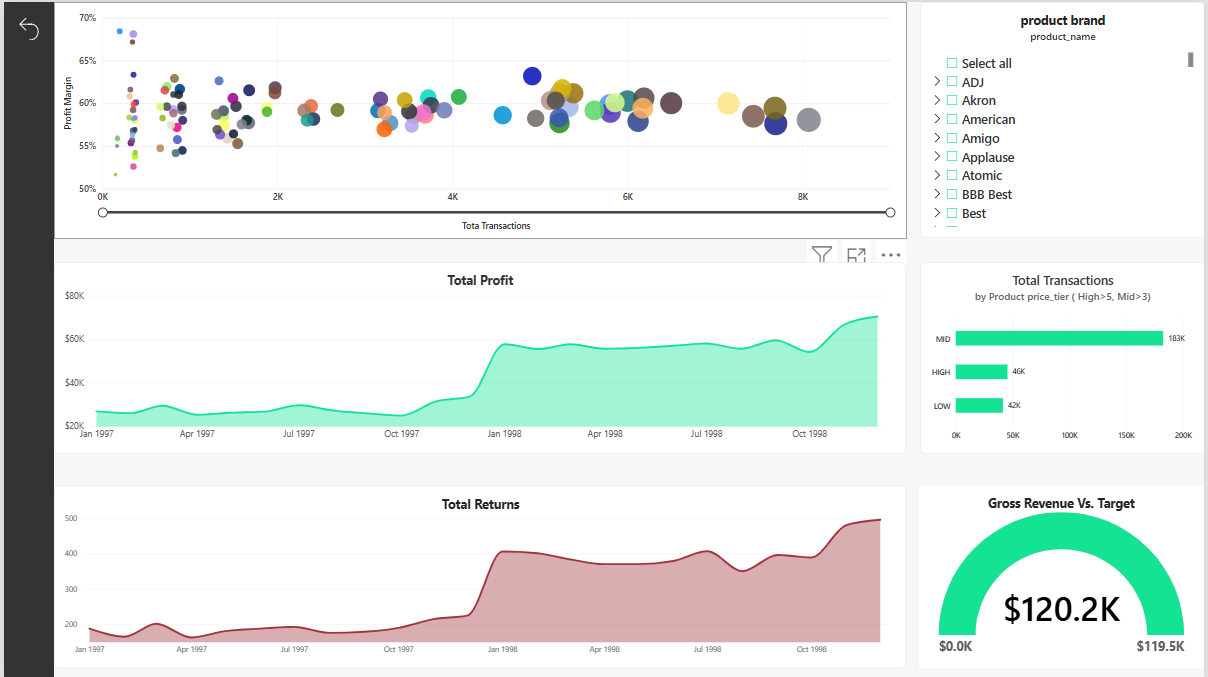

The dashboard page shown, as its layout file describes it:
{"tool":"powerbi","page":{"name":"Product Portfolio","canvas":[1920,1080],"ordinal":1},"visuals":[{"type":"scatterChart","fields":{"Category":["products.product_brand"],"Size":["measure data.Total Profit"],"X":["measure data.Tota Transactions"],"Y":["measure data.Profit Margin"]},"box":[80.9,0,1362.7,377.5],"z":0},{"type":"shape","box":[0,0,80,1080.4],"z":1000},{"type":"clusteredBarChart","title":"Total Transactions","fields":{"Category":["products.price_tier"],"Y":["measure data.Tota Transactions"]},"box":[1465.2,415.3,454.8,307.4],"z":2000},{"type":"gauge","title":"Gross Revenue Vs. Target","fields":{"MaxValue":["measure data.Revenue Target"],"Y":["measure data.Gross Revenue"]},"box":[1464.3,773.2,455.4,291.1],"z":3000},{"type":"listSlicer","title":"product brand","fields":{"Values":["products.product_brand","products.product_name"]},"box":[1465.2,0,454.8,377.5],"z":4000},{"type":"areaChart","title":"Total Profit ","fields":{"Category":["calender.Year","calender.Start of Month","calender.Start of Week","calender.date"],"Y":["measure data.Total Profit"]},"box":[80.9,415.3,1362.7,307.4],"z":5000},{"type":"areaChart","title":"Total Returns ","fields":{"Category":["calender.Year","calender.Start of Month","calender.Start of Week","calender.date"],"Y":["measure data.Total Returns"]},"box":[80,773.3,1363.3,291.7],"z":6000},{"type":"actionButton","box":[0,0,80.4,85.7],"z":7000}]}

Visuals, with their boxes in screenshot pixels (x1, y1, x2, y2), scaled from the page's 1920x1080 canvas onto the 1208x677 screenshot:
scatterChart - products.product_brand x measure data.Total Profit: bbox=(51, 0, 908, 237)
shape: bbox=(0, 0, 50, 676)
"Total Transactions" clusteredBarChart: bbox=(922, 260, 1207, 453)
"Gross Revenue Vs. Target" gauge: bbox=(921, 485, 1207, 667)
"product brand" listSlicer: bbox=(922, 0, 1207, 237)
"Total Profit " areaChart: bbox=(51, 260, 908, 453)
"Total Returns " areaChart: bbox=(50, 485, 908, 668)
actionButton: bbox=(0, 0, 51, 54)
